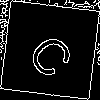C: (25, 25, 84, 82)
